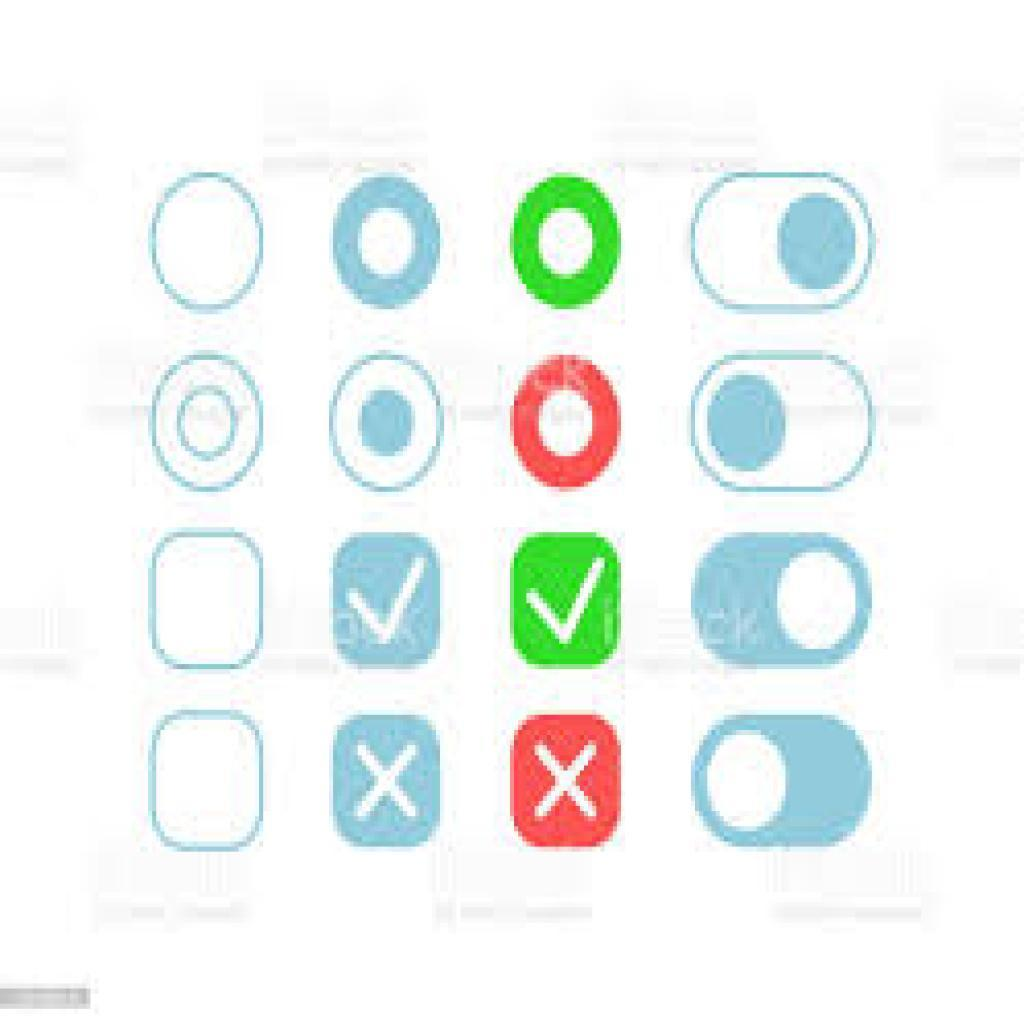checkbox: (148, 705, 268, 851), (328, 530, 443, 672), (505, 535, 621, 669), (152, 535, 267, 669), (330, 718, 445, 849), (513, 717, 624, 847)
radio: (146, 169, 272, 314), (152, 346, 269, 501), (504, 348, 627, 495), (327, 348, 448, 495), (324, 171, 447, 312), (508, 171, 623, 314)
switch: (684, 162, 884, 321), (682, 348, 877, 502), (688, 707, 878, 853), (686, 528, 879, 667)
